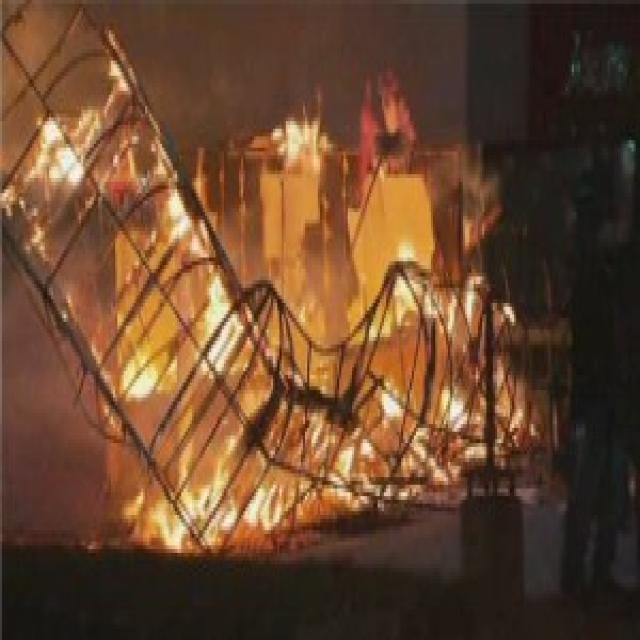Fire: (144, 481, 302, 557), (360, 61, 428, 182), (163, 164, 209, 264), (202, 281, 250, 375), (378, 237, 429, 322), (36, 112, 90, 188), (270, 106, 326, 172), (105, 24, 138, 104), (431, 376, 472, 438), (377, 374, 408, 430)
